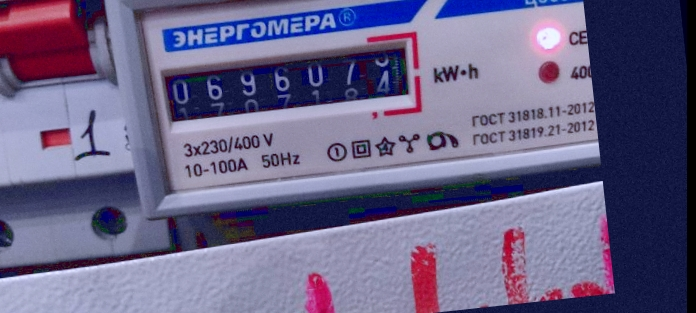0: (304, 57, 325, 89), (170, 76, 190, 106)
4: (373, 65, 393, 96)
6: (272, 62, 292, 93), (204, 71, 224, 101)
7: (338, 54, 360, 87)
9: (237, 68, 258, 97)
screen: (146, 26, 430, 140)
